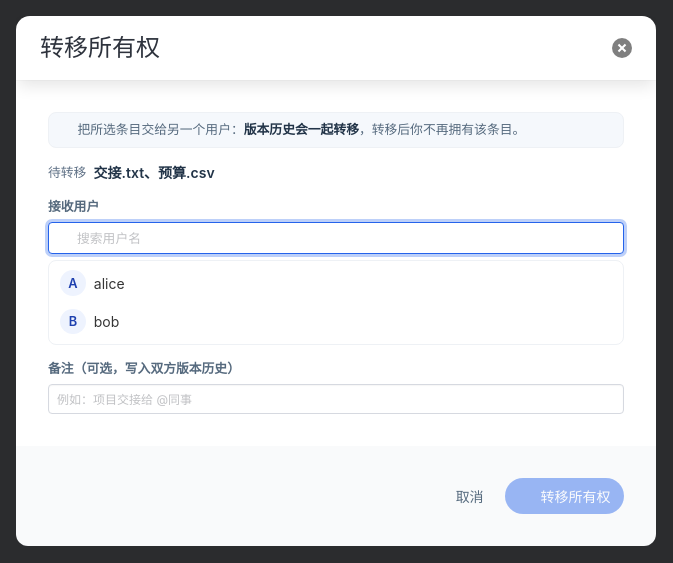
Test: TransferOwnershipDialog.vue › filters targets by the search box
Expected: the text "alice" is shown, [94,275,125,292]
In the search field named "搜索接收用户": [336, 238] box [48,222,624,254], type "bo"
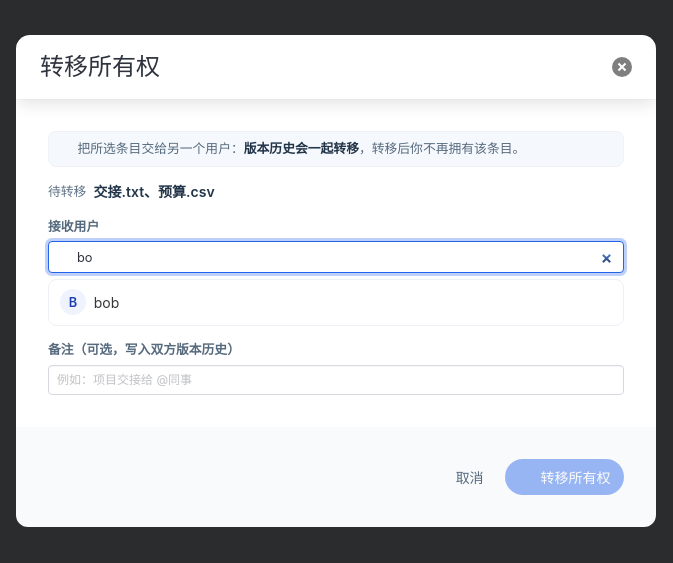
Expected: the text "bob" is shown, [94,294,119,311]
Now the option "alice" is gone
